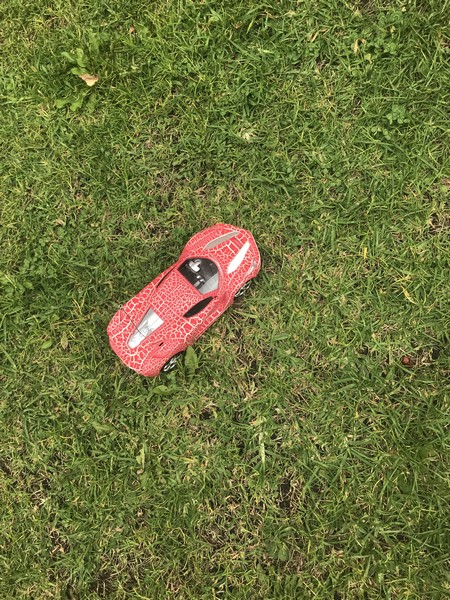RC: (105, 223, 263, 379)
